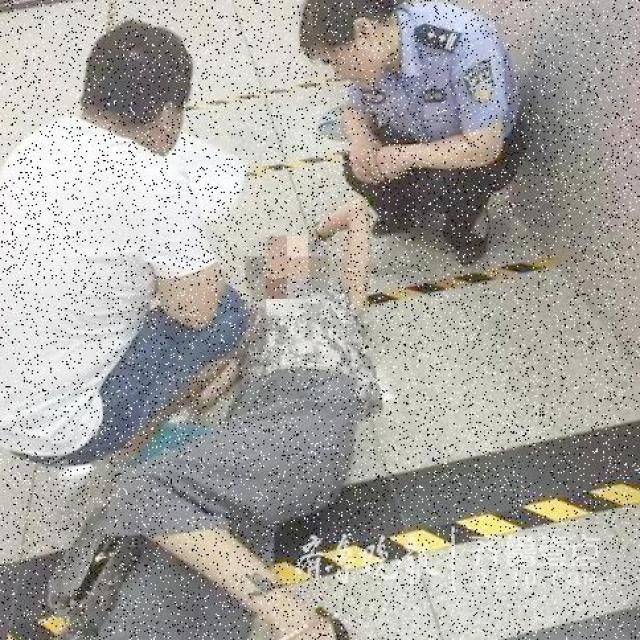fall: (114, 212, 382, 630)
